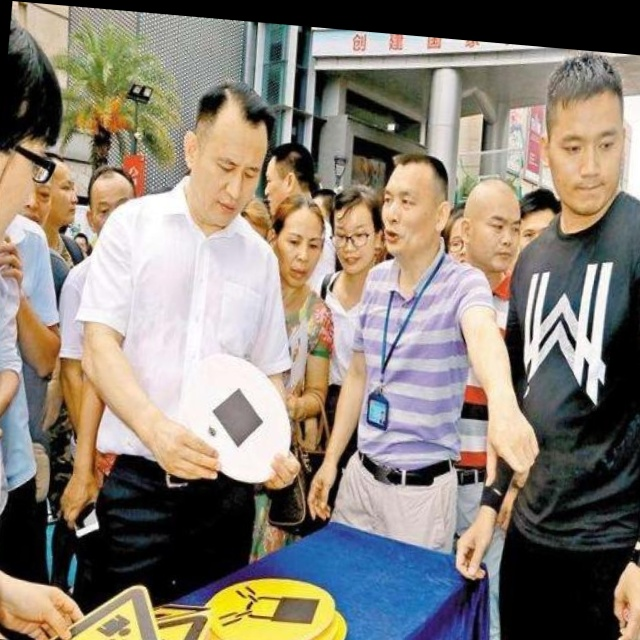Sin_Casco_Mascarrilla: (180, 77, 282, 235), (376, 147, 452, 258)
